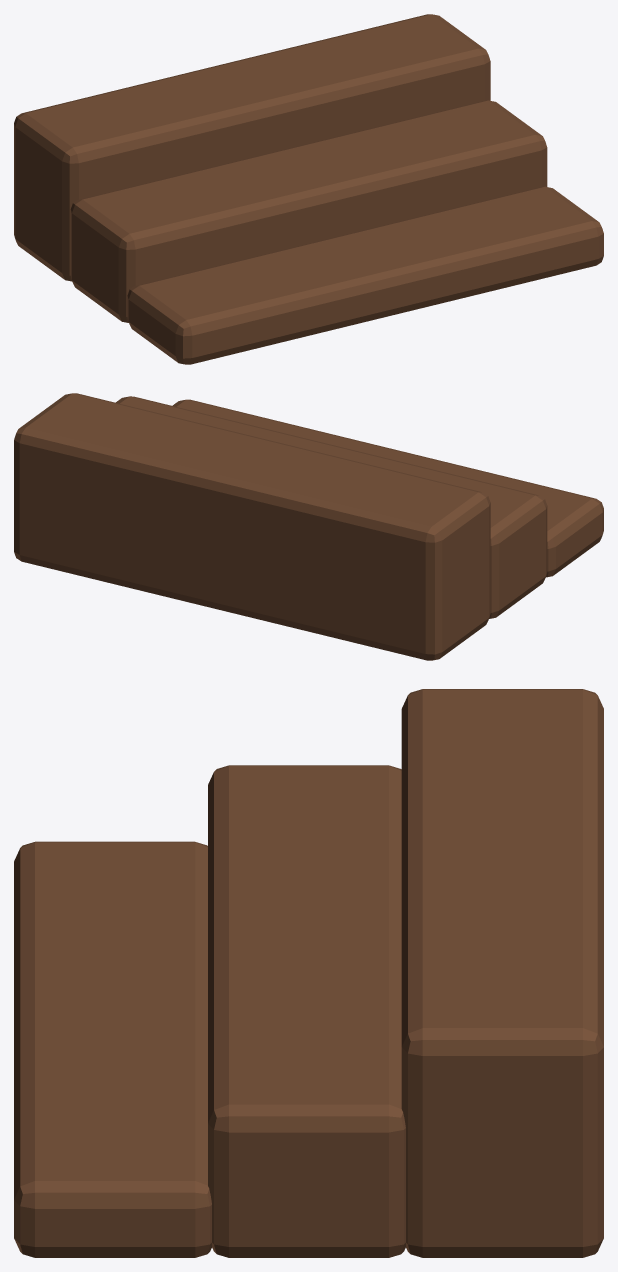
The model's file is stage_steps.glb.
3 renders of one model, top to bottom at view 1: azimuth 30°, elevation 25°; view 2: azimuth 150°, elevation 25°; view 3: azimuth 270°, elevation 25°, orthographic. The views are drawn at different scales.
Parts seen in each view (by area): view 1: stage_steps; view 2: stage_steps; view 3: stage_steps.
Boxes of the visible parts, bbox=[...] form: stage_steps: bbox=[14, 14, 603, 364]; stage_steps: bbox=[14, 393, 603, 660]; stage_steps: bbox=[14, 689, 603, 1257].
Bounding box in the file's own units: 1 × 0.3 × 0.7.
